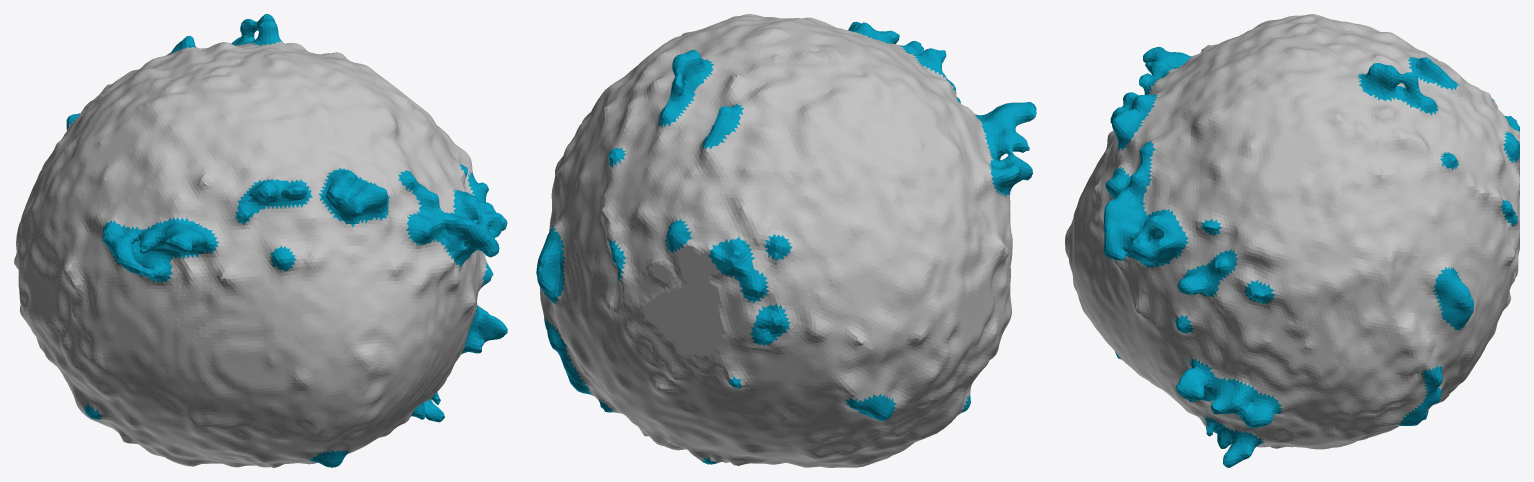
3 views of the same model, side by side, from view 1: azimuth 30°, elevation 25°; view 2: azimuth 150°, elevation 25°; view 3: azimuth 270°, elevation 25° (orthographic). The views are drawn at different scales.
Bounding box in the file's own units: 92.45 × 85.85 × 92.61.
